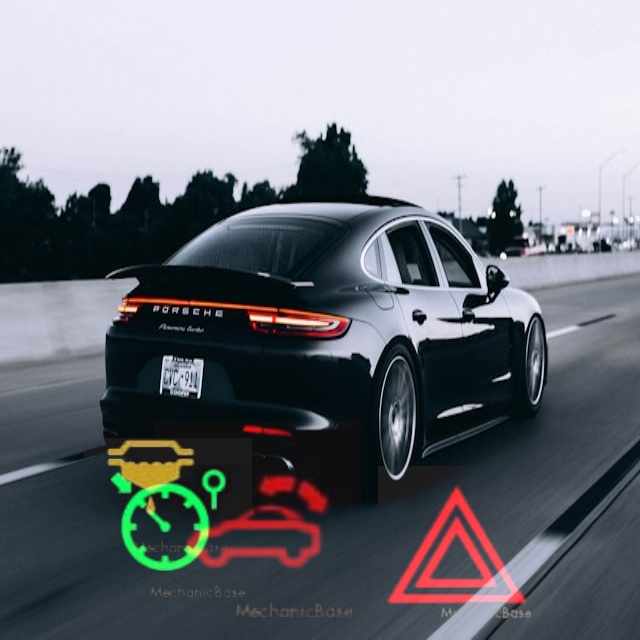symbol: (154, 421, 361, 628), (84, 438, 252, 606), (69, 396, 234, 561), (378, 466, 538, 626)
